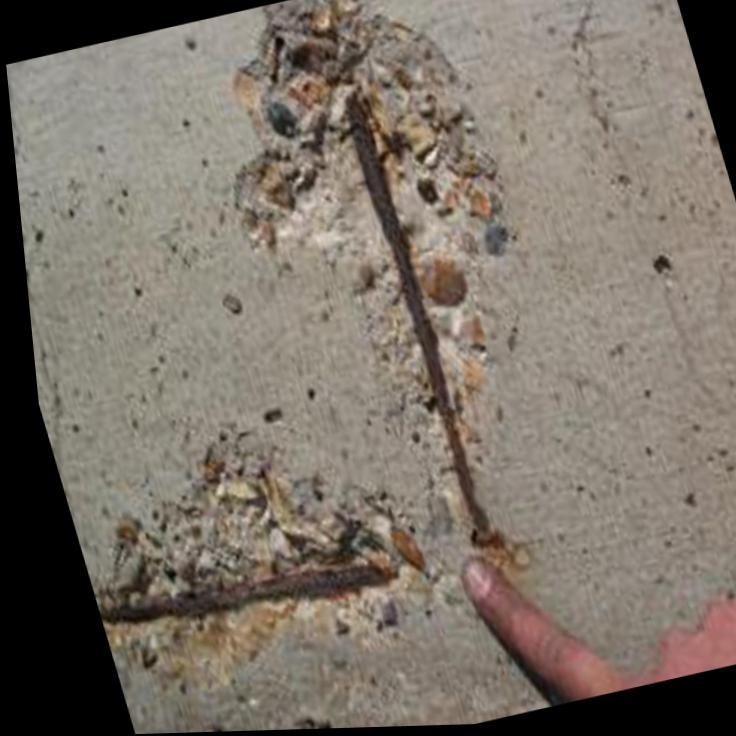damage: (229, 0, 505, 549), (85, 432, 436, 696)
